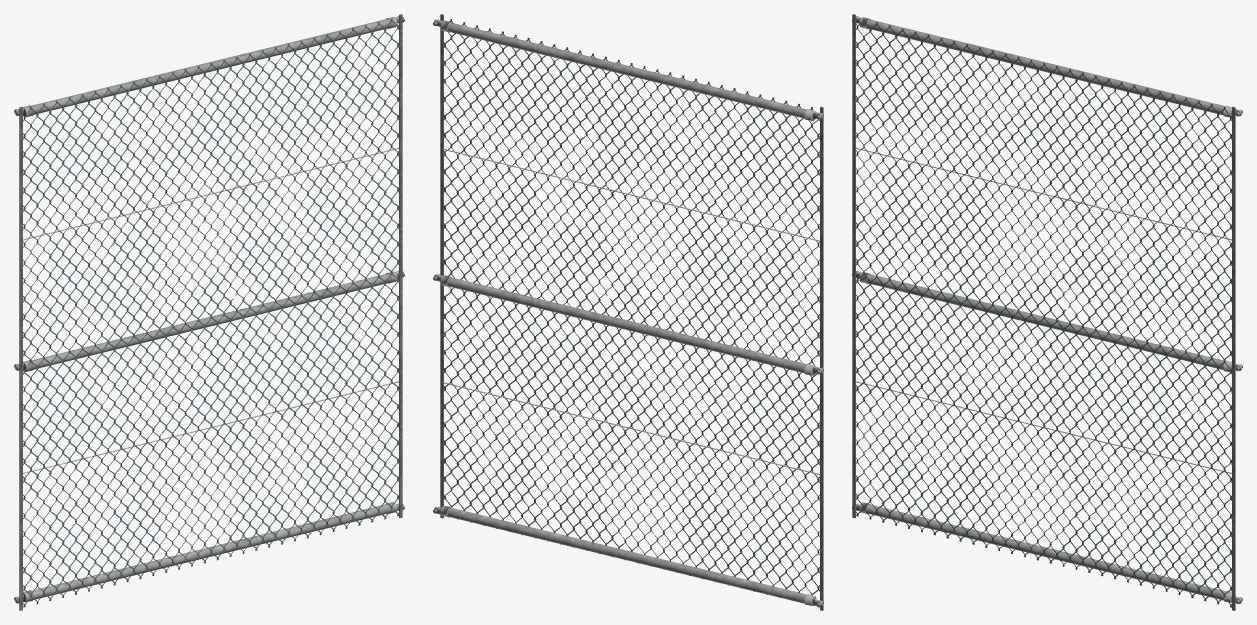
The model's file is fence.glb.
3 views of the same model, side by side, from view 1: azimuth 30°, elevation 25°; view 2: azimuth 150°, elevation 25°; view 3: azimuth 330°, elevation 25° (orthographic).
Visible parts, largest first — view 1: modular_chainlink_fence_double; view 2: modular_chainlink_fence_double; view 3: modular_chainlink_fence_double.
Part boxes in pixels (x1=…): modular_chainlink_fence_double: x1=14, y1=14, x2=404, y2=610; modular_chainlink_fence_double: x1=433, y1=14, x2=823, y2=610; modular_chainlink_fence_double: x1=852, y1=14, x2=1242, y2=610.
Bounding box in the file's own units: 1.91 × 2.37 × 0.0486.
Materials: 2 (2 with a texture image).
